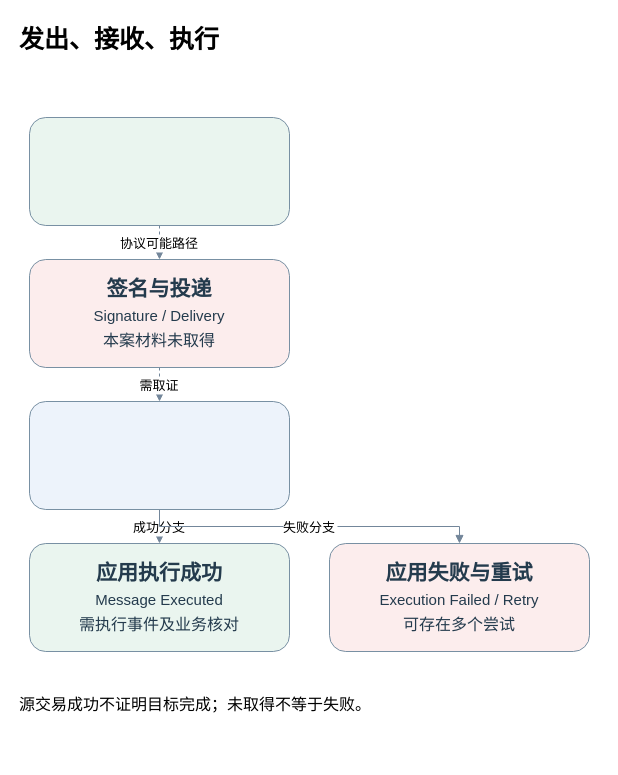
Some shapes in this 618 by 775 pixel diagram are drawn without their labels. Here are the shapes that lost their labels. From the top down, the centre of each, then its label:
At pixel 159 171: "源侧发送事件 Message Sent Case 08 已取得".
At pixel 159 455: "目标已接收 Message Received 需目标协议证据".
